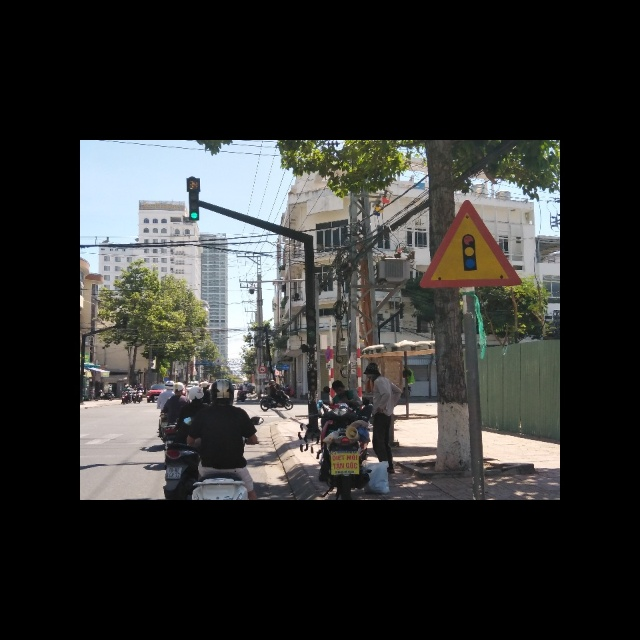Giao nhau có tín hiệu đèn: (417, 200, 521, 288)
